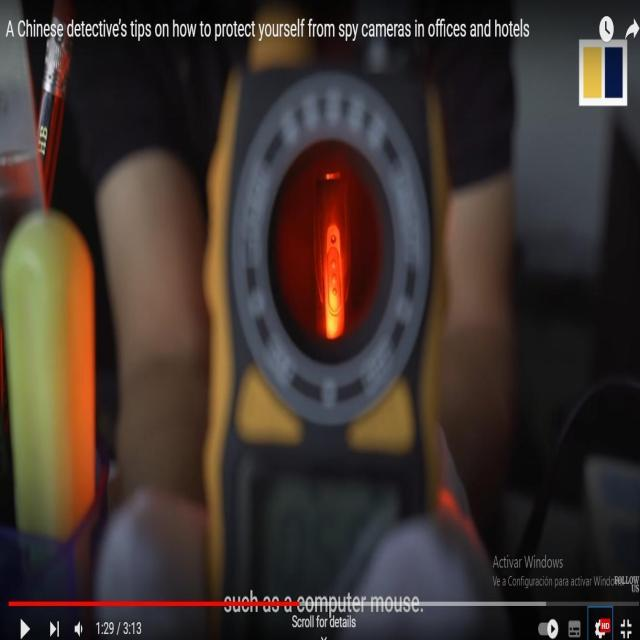hidden camera: (327, 221, 343, 254)
